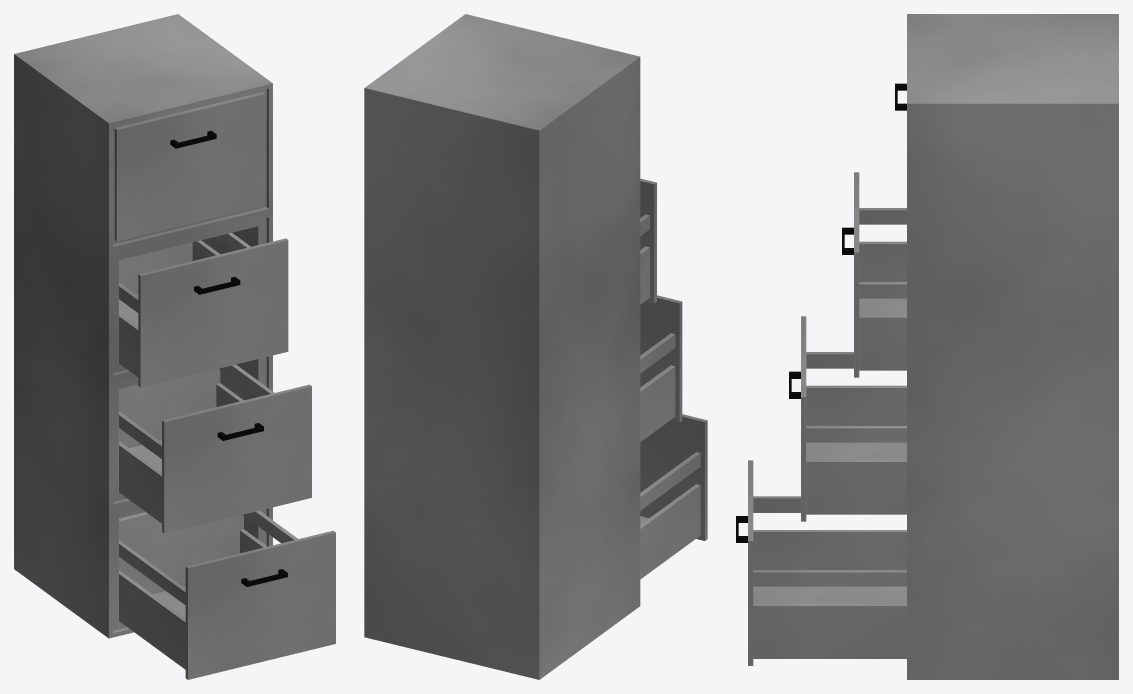
File: office_file_cabinet.glb
The picture shows the model from 3 angles, left to right: view 1: azimuth 30°, elevation 25°; view 2: azimuth 150°, elevation 25°; view 3: azimuth 270°, elevation 25°; orthographic projection. The views are drawn at different scales.
Visible parts, largest first — view 1: FileCabinet, 01_Material_0, 02_Material_0, 03_Material_0, 04_Material_0; view 2: FileCabinet, 01_Material_0, 02_Material_0, 03_Material_0; view 3: FileCabinet, 01_Material_0, 02_Material_0, 03_Material_0.
Part boxes in pixels (x1,y1,x2,y2): FileCabinet: [14, 14, 272, 638]; 01_Material_0: [119, 510, 335, 679]; 02_Material_0: [119, 364, 311, 533]; 03_Material_0: [119, 233, 288, 387]; 04_Material_0: [114, 92, 264, 241]; FileCabinet: [364, 14, 640, 679]; 01_Material_0: [640, 414, 707, 579]; 02_Material_0: [640, 295, 682, 441]; 03_Material_0: [640, 178, 656, 304]; FileCabinet: [907, 14, 1118, 679]; 01_Material_0: [736, 460, 906, 665]; 02_Material_0: [789, 316, 906, 521]; 03_Material_0: [842, 172, 906, 377].
Bounding box in the file's own units: 0.4 × 1.2 × 0.7225.
Materials: 1 (1 with a texture image).
